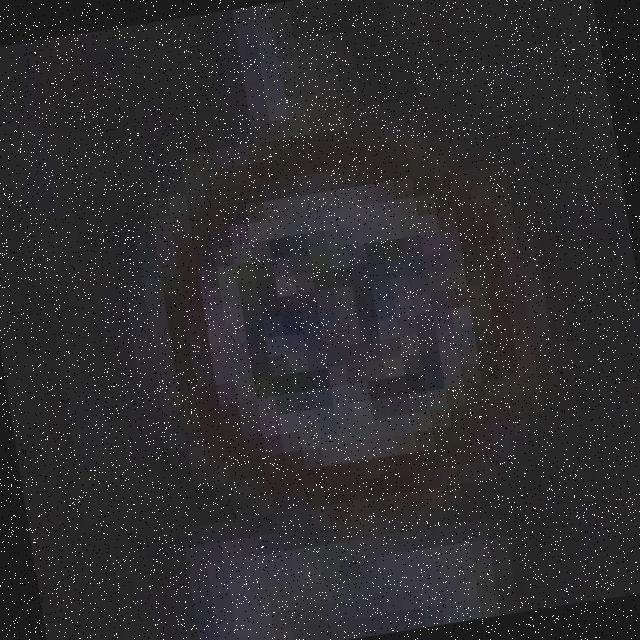Ograniczenie predkosci do 80: (136, 100, 548, 540)
